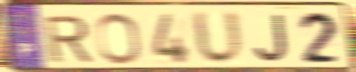2: (298, 9, 345, 67)
4: (150, 11, 191, 66)
J: (252, 12, 290, 64)
O: (95, 12, 144, 66)
R: (42, 13, 95, 64)
U: (190, 9, 247, 67)
